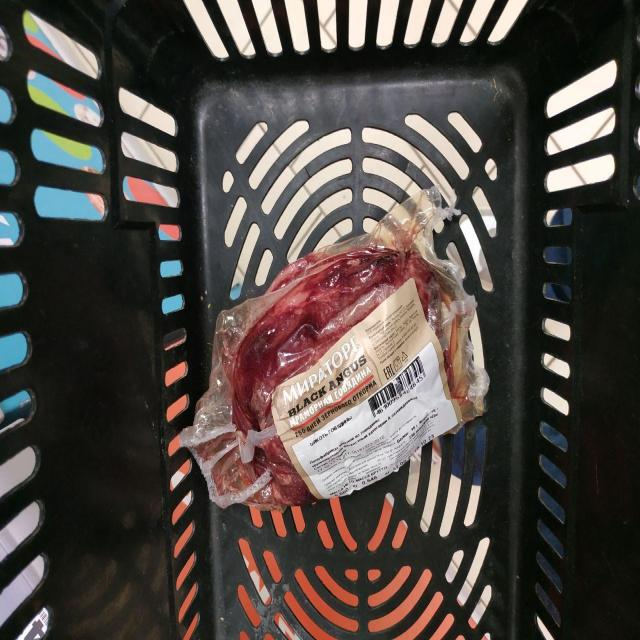Meat: (180, 188, 489, 510)
